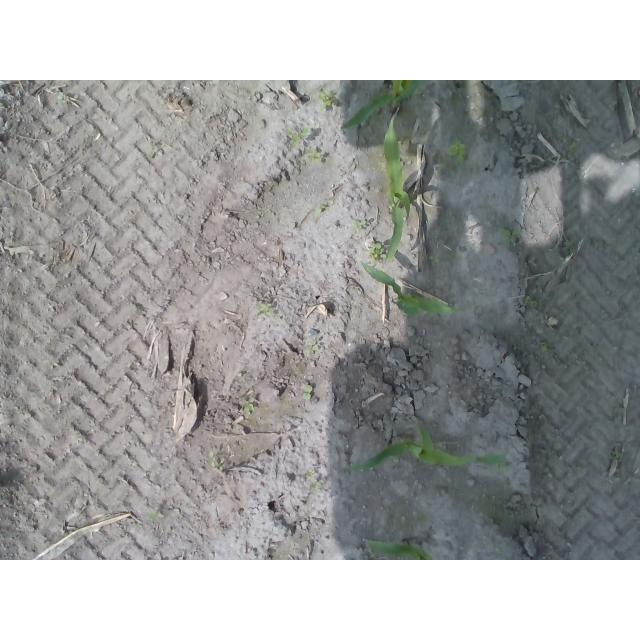Maize: (344, 428, 512, 476), (358, 261, 455, 318), (381, 107, 411, 264), (341, 80, 425, 129), (366, 537, 435, 560)
Weeds: (364, 242, 386, 263), (560, 136, 580, 159), (448, 138, 466, 162), (501, 228, 524, 245), (289, 128, 312, 145), (318, 92, 338, 110), (302, 149, 323, 163), (314, 199, 330, 217), (527, 298, 546, 313), (608, 446, 624, 463), (241, 398, 255, 414), (538, 340, 555, 352), (303, 385, 314, 402), (209, 460, 223, 473), (259, 302, 273, 314), (562, 240, 573, 255), (353, 221, 365, 233), (148, 510, 160, 521), (428, 254, 440, 264), (307, 345, 317, 352)
